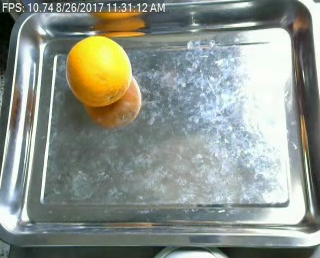Orange: (64, 36, 131, 107)
